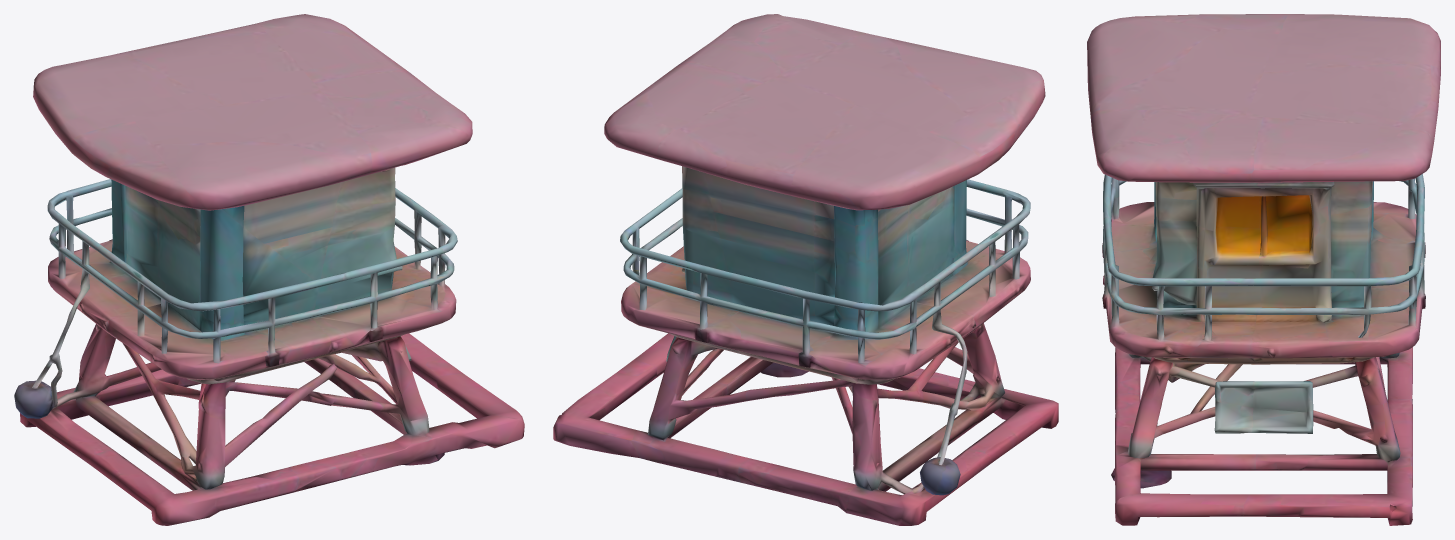
The model's file is lifeguard-tower.glb.
3 renders of one model, left to right at view 1: azimuth 30°, elevation 25°; view 2: azimuth 150°, elevation 25°; view 3: azimuth 270°, elevation 25°, orthographic.
Parts seen in each view (by area): view 1: tripo_node_3f21876e-e84c-4bbc-bebc-5f0ed7a02295; view 2: tripo_node_3f21876e-e84c-4bbc-bebc-5f0ed7a02295; view 3: tripo_node_3f21876e-e84c-4bbc-bebc-5f0ed7a02295.
Boxes of the visible parts, left/top/right/bottom form: tripo_node_3f21876e-e84c-4bbc-bebc-5f0ed7a02295: left=14, top=14, right=524, bottom=525; tripo_node_3f21876e-e84c-4bbc-bebc-5f0ed7a02295: left=553, top=14, right=1058, bottom=525; tripo_node_3f21876e-e84c-4bbc-bebc-5f0ed7a02295: left=1087, top=14, right=1440, bottom=525.
Size of the model in its own units: 0.9995 by 0.8408 by 0.7867.
Materials: 1 (1 with a texture image).
